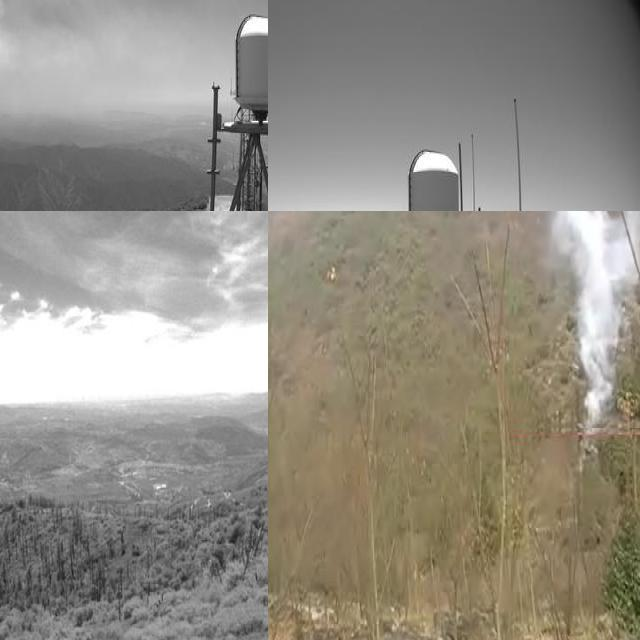smoke: (551, 211, 640, 426)
